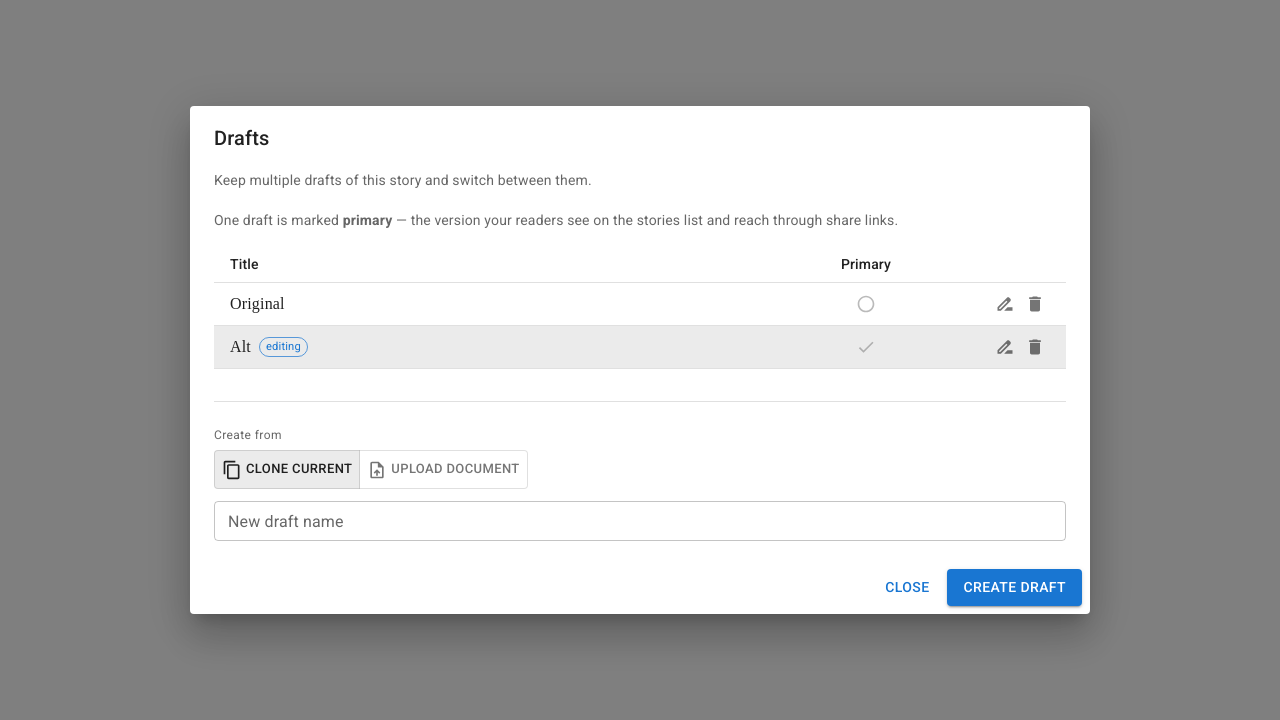
DraftsDialog › mentions the active draft in the destructive confirm when deleting the one you're viewing
Check: the text "Alt" is shown, box [230,336,251,359]
Click the button named "delete" in the row of "Alt": (1035, 347) [1020,332,1050,362]
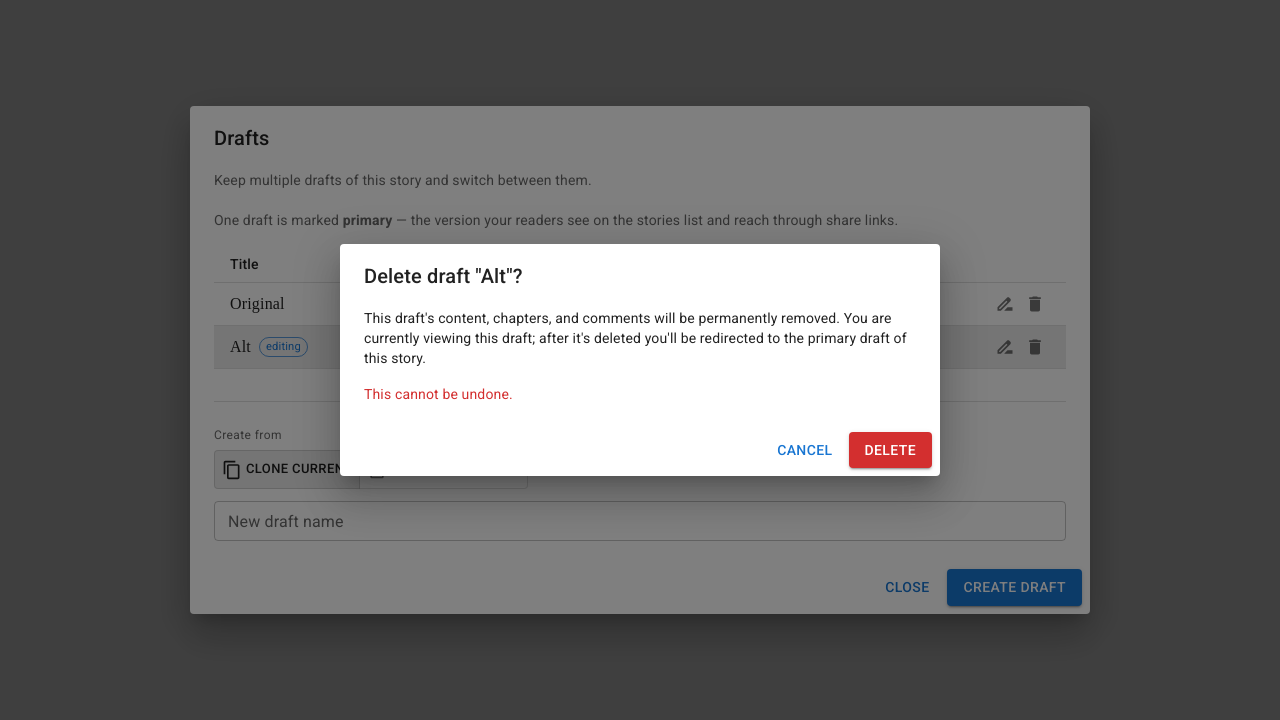
Check: the heading "Delete draft \"Alt\"?" is shown, box [364,264,523,288]
Check: the text "redirected to the primary draft" is shown, box [364,310,907,366]
